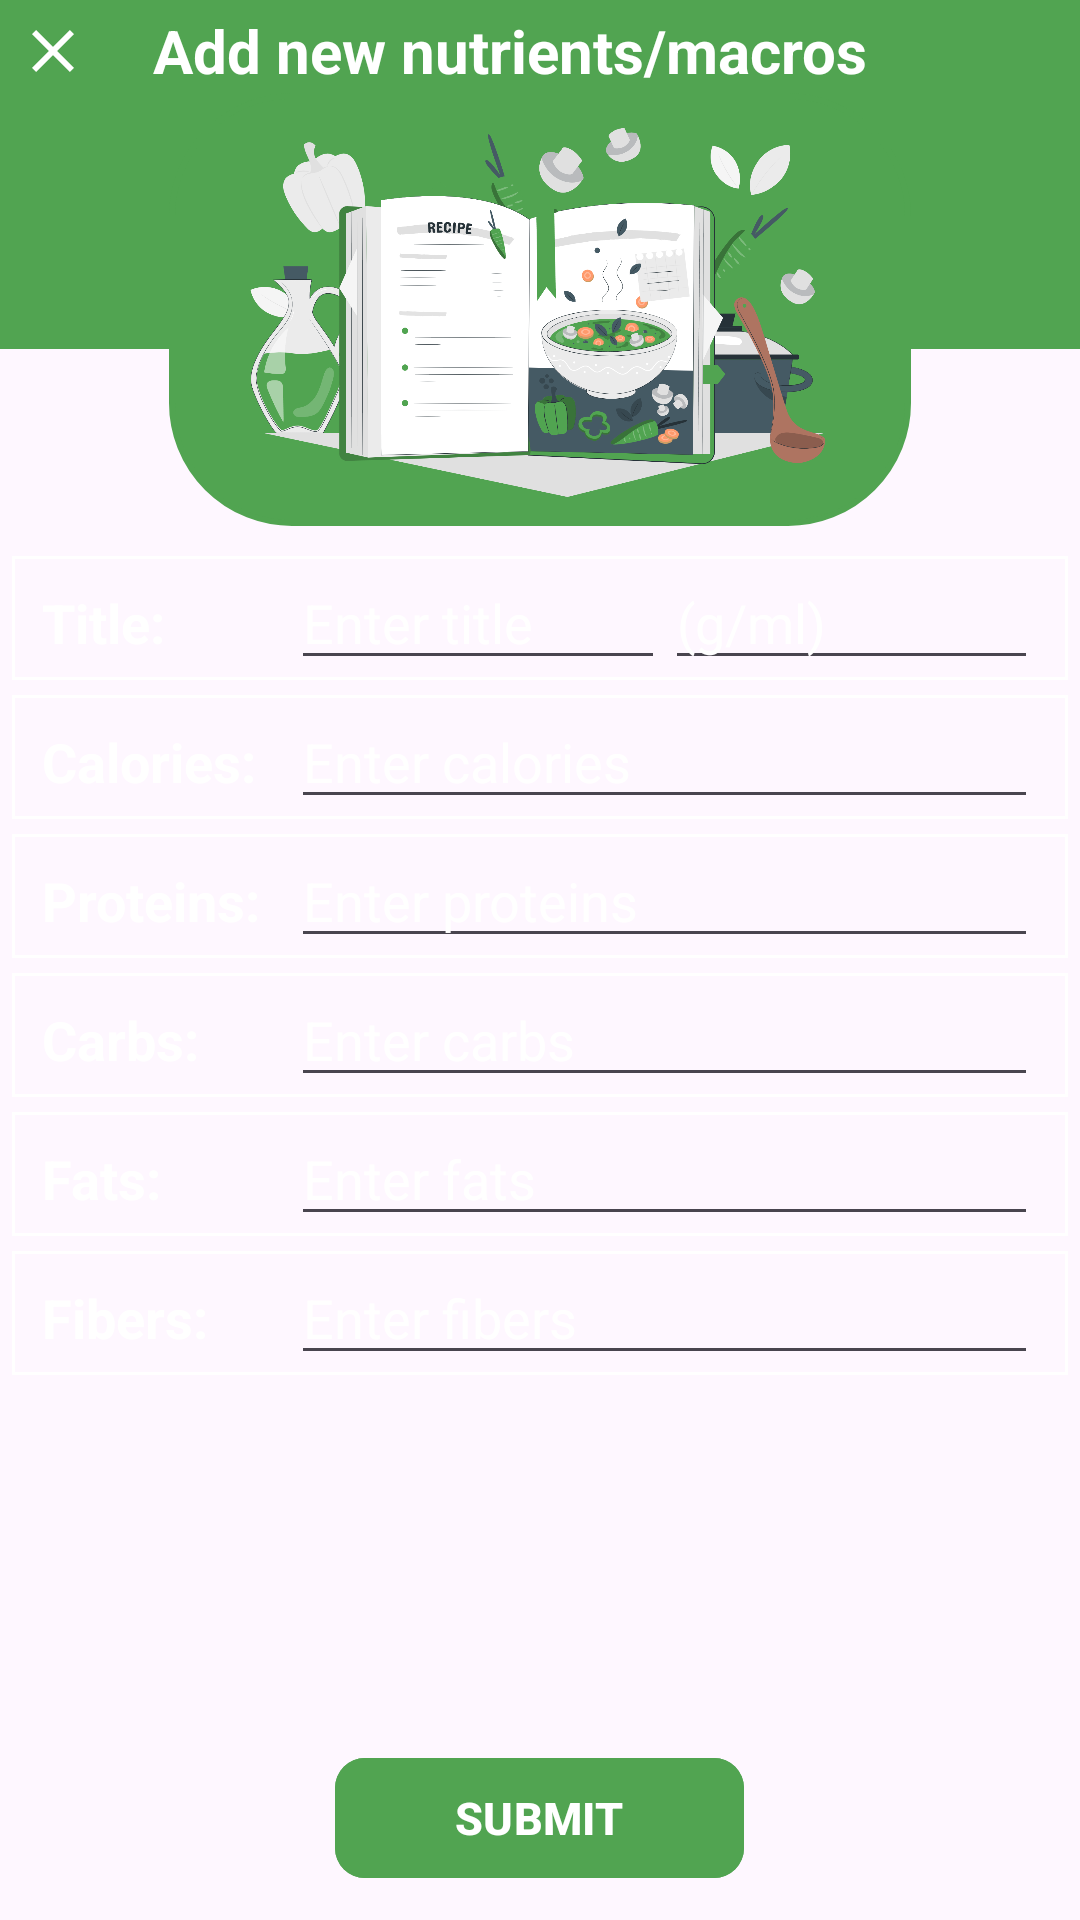

Locate icon controls on the screen. Image size 1080*1920, boxes as [left=x1, top=y1, right=x2, bottom=y2].
close: [left=32, top=30, right=74, bottom=72]
